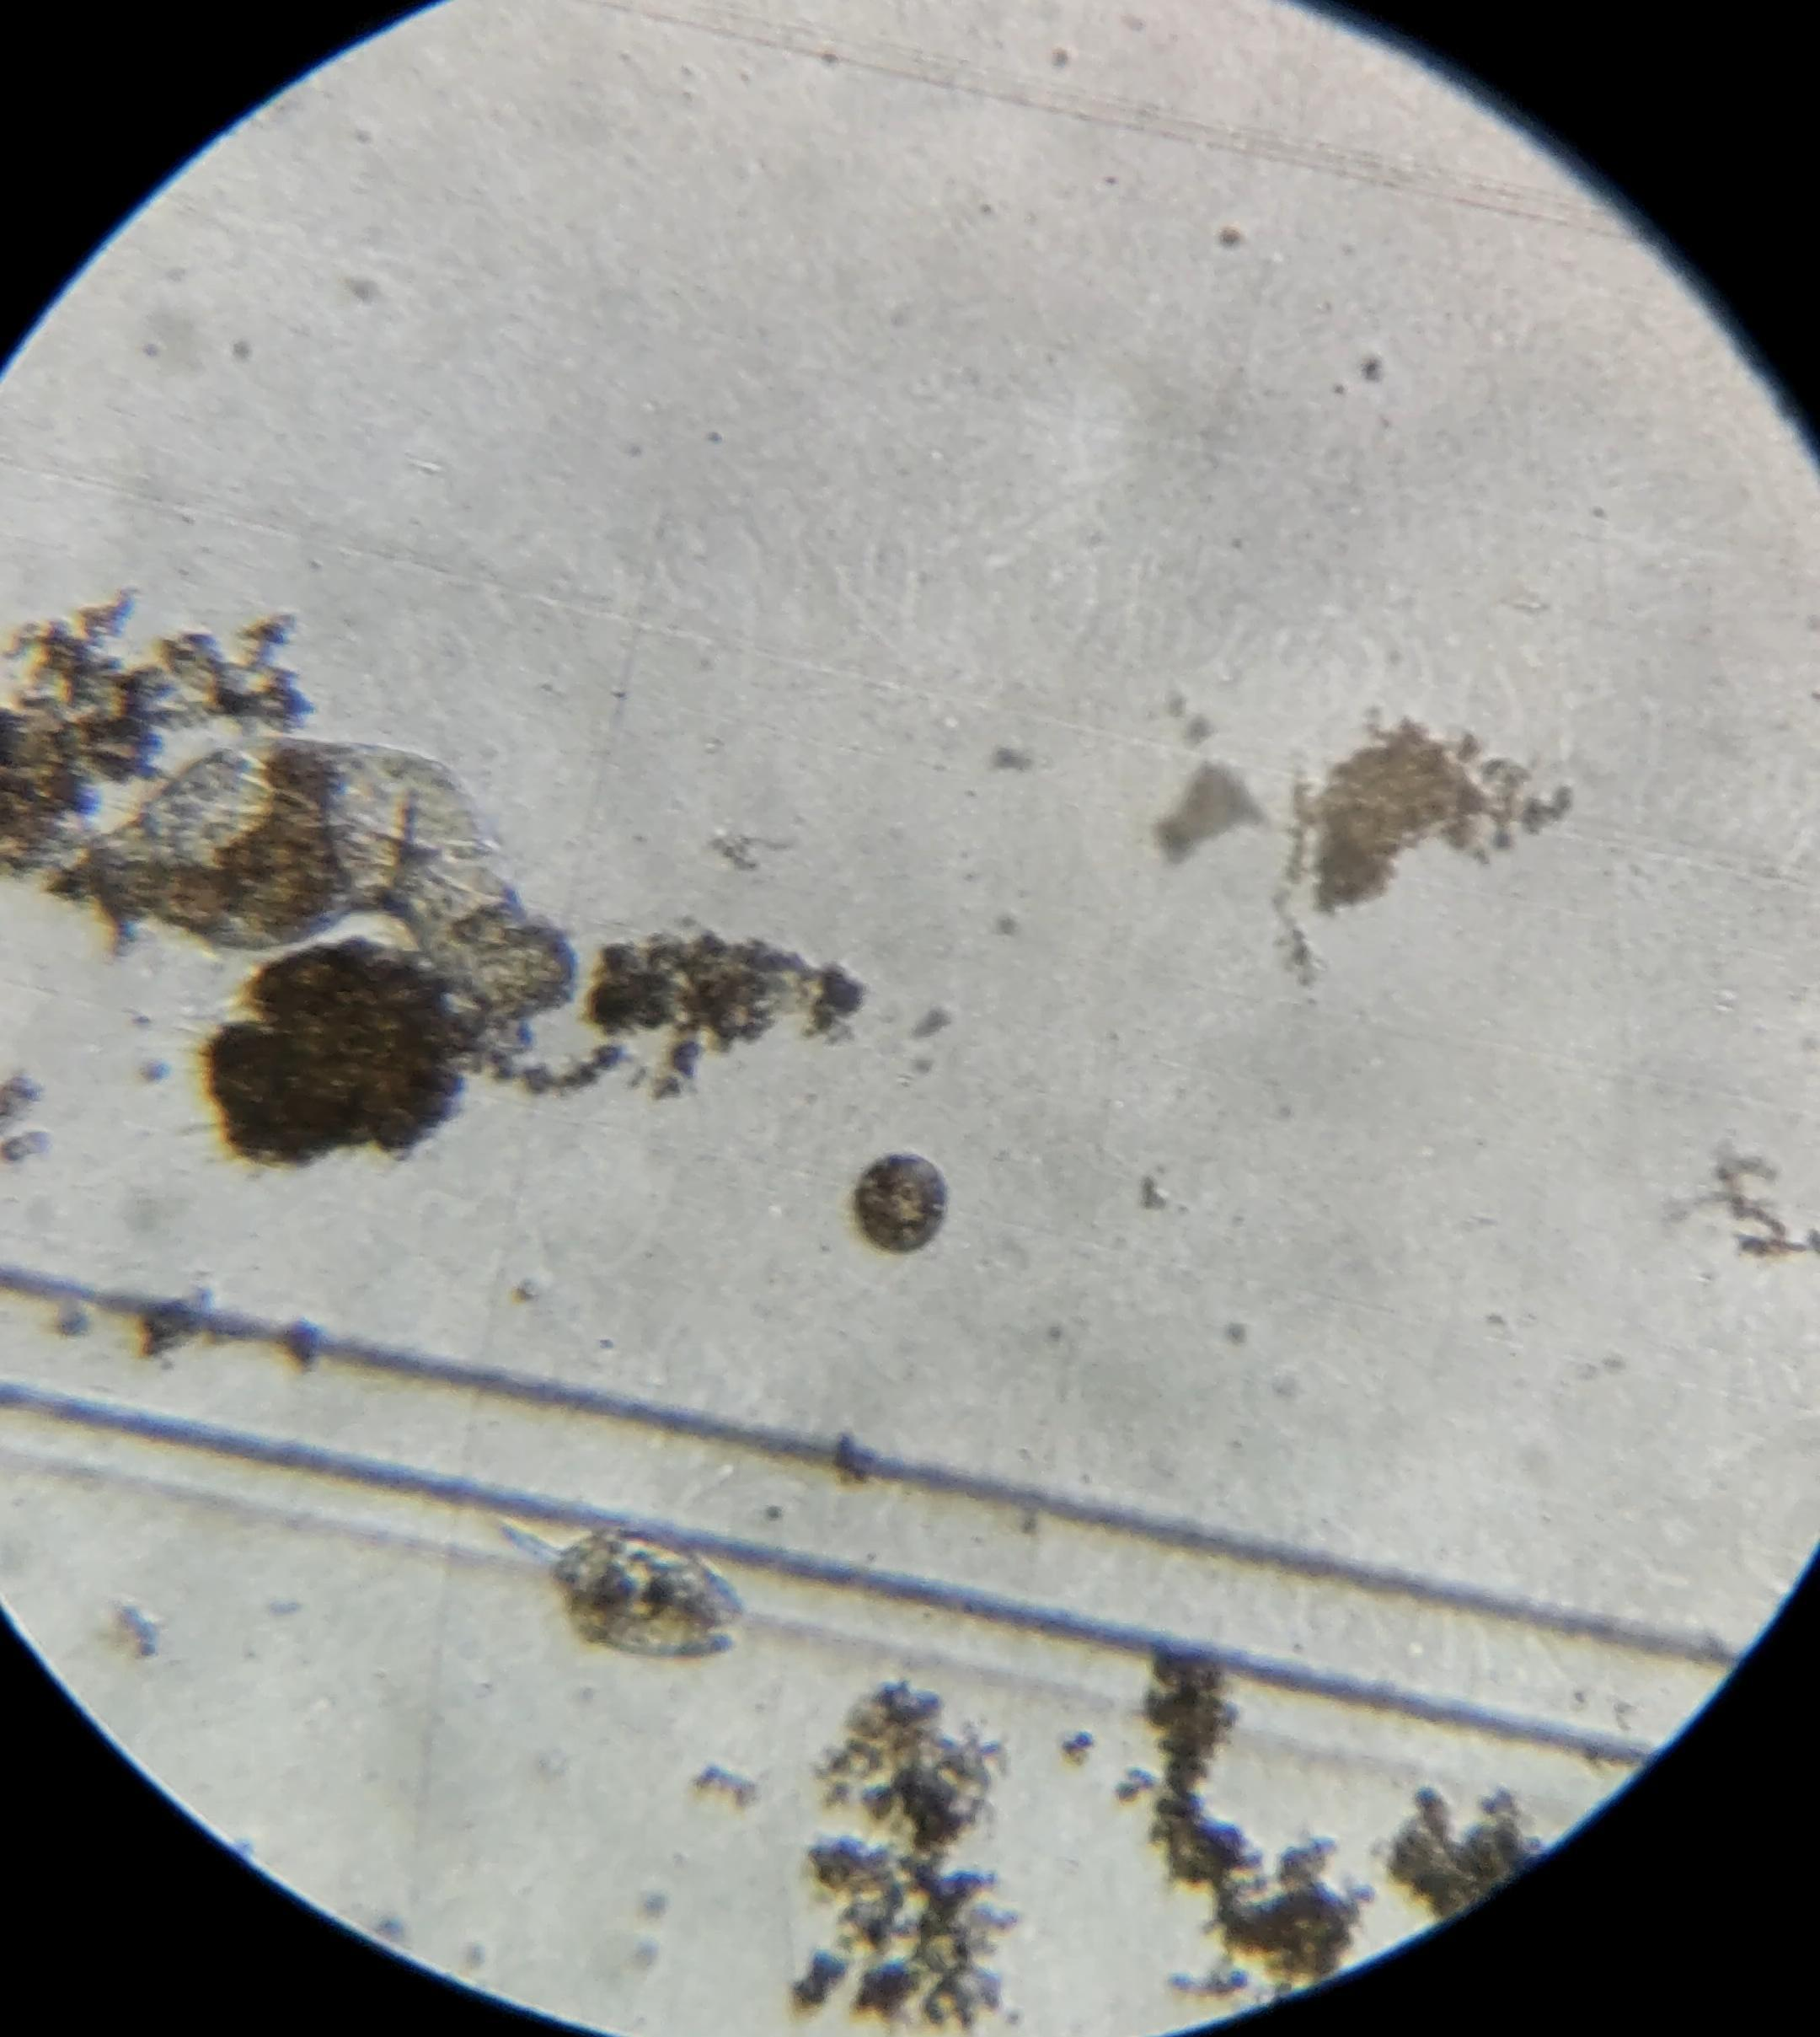Do: (72, 736, 576, 1030)
Mo: (497, 1520, 743, 1659)
